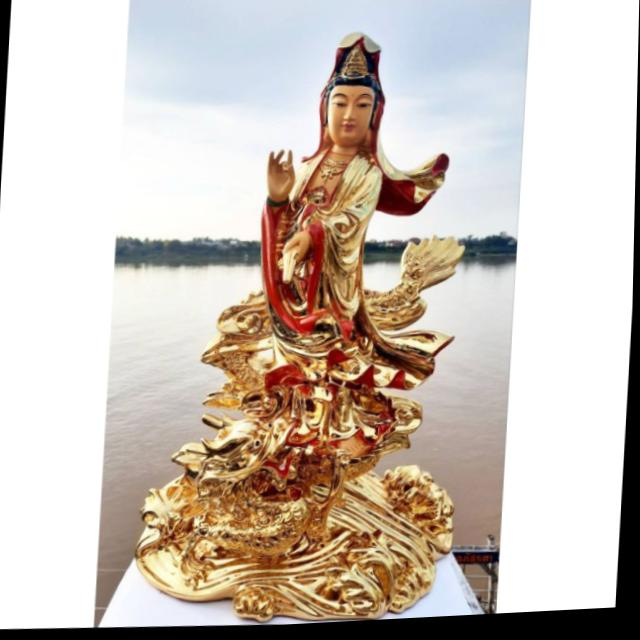Guan Yin: (247, 27, 401, 392)
